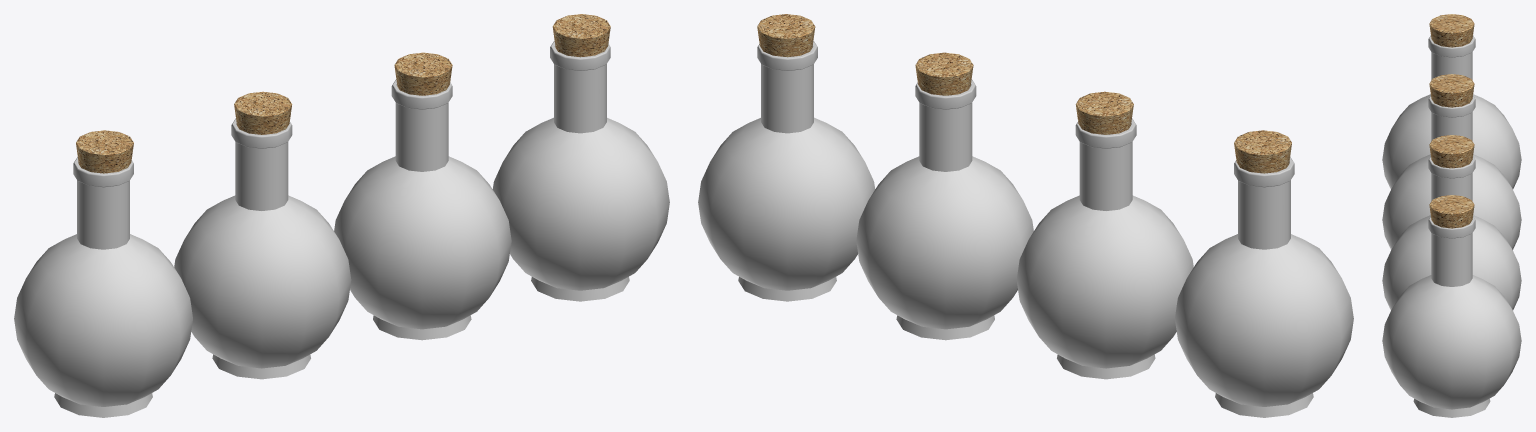
The model's file is RunnerPotion 1.fbx.
3 views of the same model, side by side, from view 1: azimuth 30°, elevation 25°; view 2: azimuth 150°, elevation 25°; view 3: azimuth 270°, elevation 25° (orthographic). The views are drawn at different scales.
Visible parts, largest first — view 1: PinkPotionBottle, GreenPotionBottle.001, PurplePotionBottle, RedPotionBottle, Cork3, Cork1, Cork2, Cork4; view 2: PinkPotionBottle, GreenPotionBottle.001, PurplePotionBottle, RedPotionBottle, Cork2, Cork3, Cork1, Cork4; view 3: RedPotionBottle, PurplePotionBottle, GreenPotionBottle.001, PinkPotionBottle, Cork3, Cork2, Cork1, Cork4.
Part boxes in pixels (x1=…): PinkPotionBottle: x1=14, y1=157, x2=192, y2=417; GreenPotionBottle.001: x1=334, y1=79, x2=511, y2=340; PurplePotionBottle: x1=174, y1=118, x2=351, y2=379; RedPotionBottle: x1=492, y1=41, x2=669, y2=301; Cork3: x1=394, y1=52, x2=452, y2=95; Cork1: x1=76, y1=130, x2=133, y2=173; Cork2: x1=234, y1=91, x2=292, y2=134; Cork4: x1=552, y1=14, x2=610, y2=57; PinkPotionBottle: x1=1175, y1=157, x2=1353, y2=417; GreenPotionBottle.001: x1=856, y1=79, x2=1033, y2=340; PurplePotionBottle: x1=1016, y1=118, x2=1193, y2=379; RedPotionBottle: x1=698, y1=41, x2=875, y2=301; Cork2: x1=1075, y1=91, x2=1133, y2=134; Cork3: x1=915, y1=52, x2=973, y2=95; Cork1: x1=1234, y1=130, x2=1291, y2=173; Cork4: x1=757, y1=14, x2=815, y2=57; RedPotionBottle: x1=1382, y1=216, x2=1521, y2=417; PurplePotionBottle: x1=1382, y1=95, x2=1521, y2=249; GreenPotionBottle.001: x1=1382, y1=156, x2=1521, y2=309; PinkPotionBottle: x1=1382, y1=35, x2=1521, y2=188; Cork3: x1=1429, y1=135, x2=1474, y2=168; Cork2: x1=1429, y1=74, x2=1474, y2=107; Cork1: x1=1429, y1=14, x2=1474, y2=47; Cork4: x1=1429, y1=195, x2=1474, y2=228.
Bounding box in the file's own units: 405 × 156 × 99.45.
